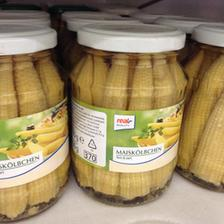Mais: (67, 21, 187, 205), (0, 22, 70, 222), (177, 24, 223, 192)
